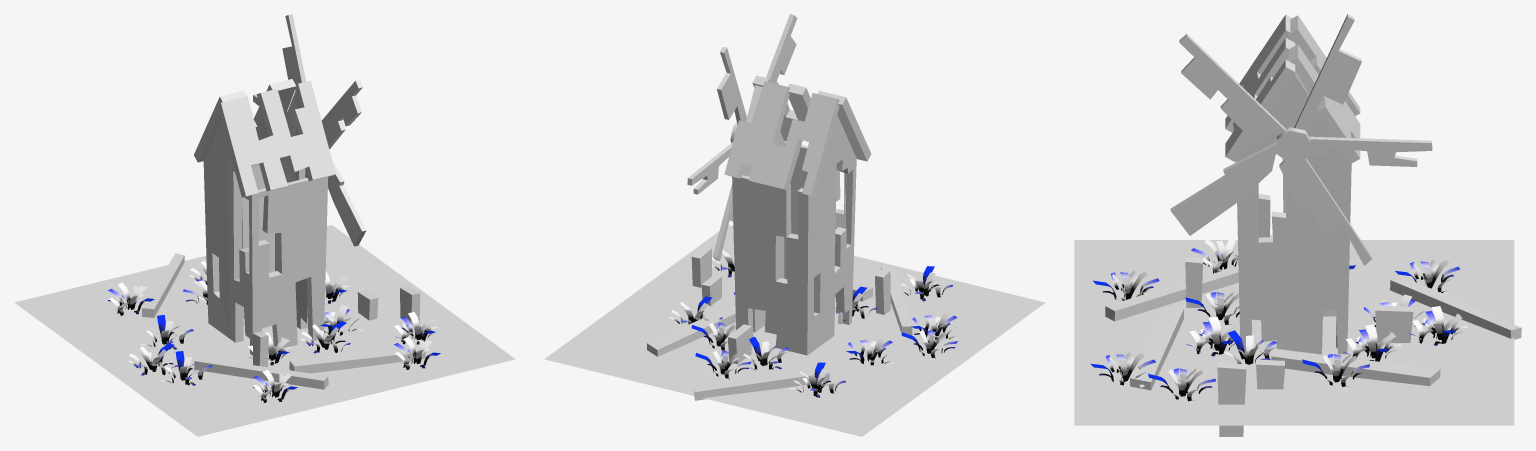
Rendered from TILE_MILL.fbx.
The picture shows the model from 3 angles, left to right: view 1: azimuth 30°, elevation 25°; view 2: azimuth 150°, elevation 25°; view 3: azimuth 270°, elevation 25°; orthographic projection. The views are drawn at different scales.
Parts seen in each view (by area): view 1: MILL, MILL_TILE_FLOOR, MILL_TILE_GRASS, MILL_WINGS; view 2: MILL, MILL_TILE_FLOOR, MILL_TILE_GRASS, MILL_WINGS; view 3: MILL_TILE_FLOOR, MILL, MILL_WINGS, MILL_TILE_GRASS.
Part boxes in pixels (bbox=[...]): MILL: bbox=[142, 79, 425, 389]; MILL_TILE_FLOOR: bbox=[14, 225, 515, 436]; MILL_TILE_GRASS: bbox=[108, 260, 440, 402]; MILL_WINGS: bbox=[253, 14, 366, 246]; MILL: bbox=[647, 75, 912, 400]; MILL_TILE_FLOOR: bbox=[544, 225, 1045, 436]; MILL_TILE_GRASS: bbox=[668, 250, 957, 397]; MILL_WINGS: bbox=[687, 14, 797, 261]; MILL_TILE_FLOOR: bbox=[1074, 240, 1514, 425]; MILL: bbox=[1105, 14, 1521, 436]; MILL_WINGS: bbox=[1170, 14, 1432, 265]; MILL_TILE_GRASS: bbox=[1090, 239, 1467, 403].
Size of the model in its own units: 200 by 190 by 203.
